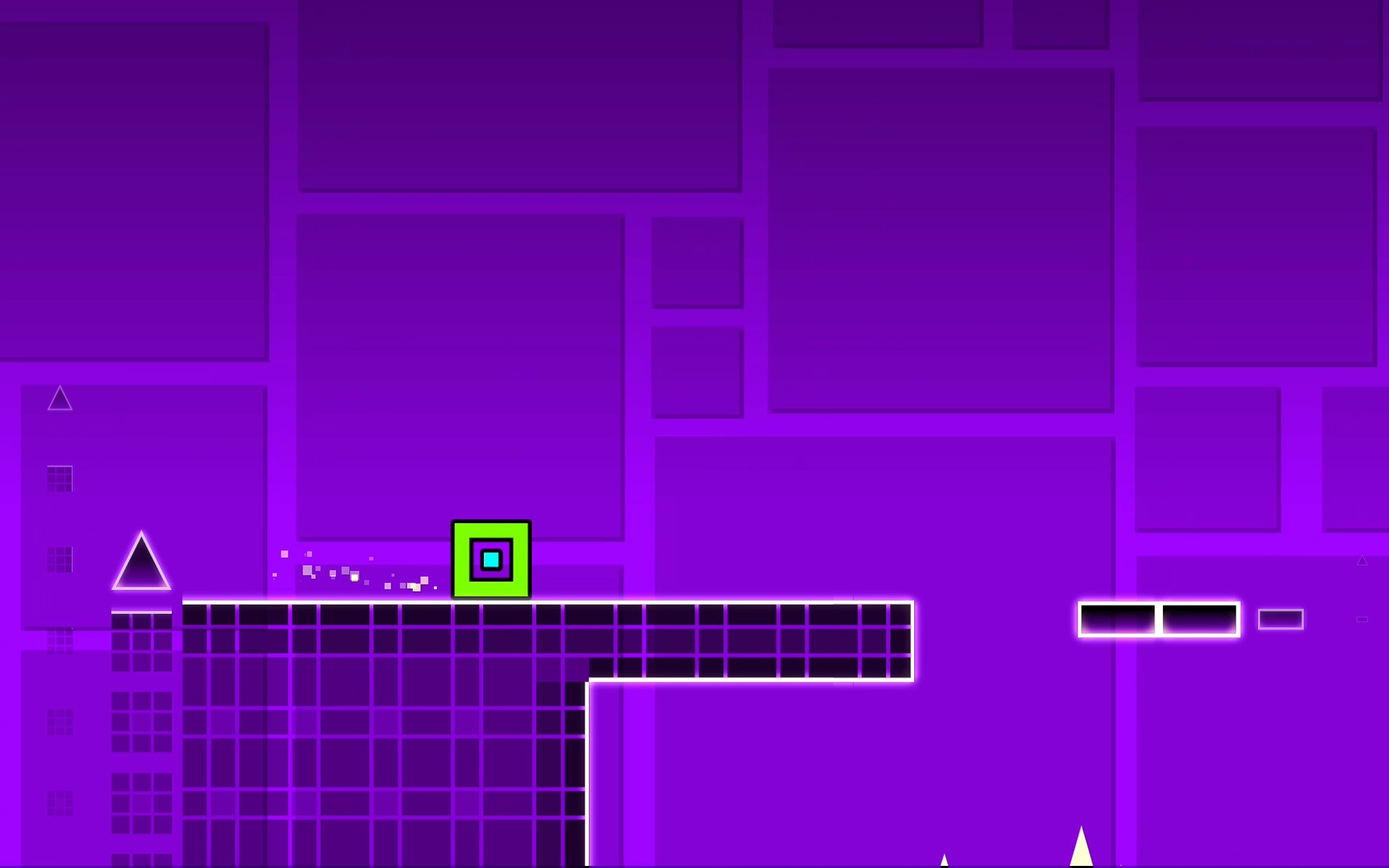Block2: (97, 601, 601, 863), (585, 600, 918, 678)
Block3: (1069, 601, 1243, 637), (1259, 608, 1305, 629)
Player: (450, 519, 531, 598)
Spike: (111, 530, 170, 589)
